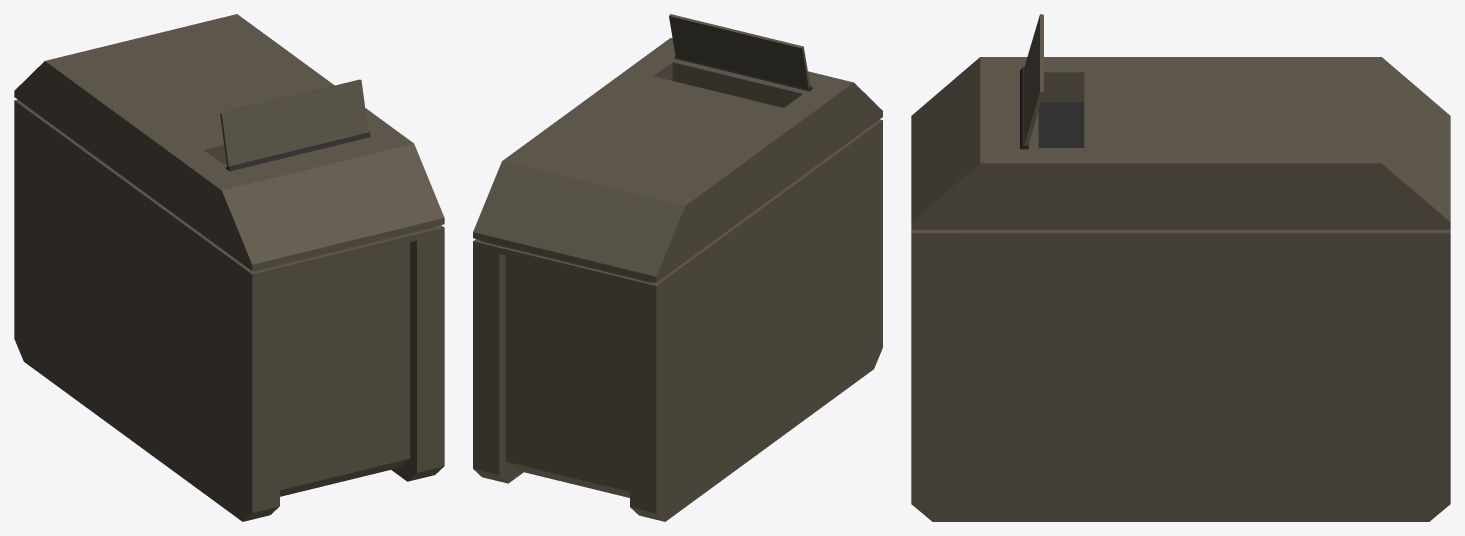
Rendered from LMG3_02_2.fbx.
3 renders of one model, left to right at view 1: azimuth 30°, elevation 25°; view 2: azimuth 150°, elevation 25°; view 3: azimuth 270°, elevation 25°, orthographic. The views are drawn at different scales.
Visible parts, largest first — view 1: LMG3_02_2; view 2: LMG3_02_2; view 3: LMG3_02_2.
Part boxes in pixels (x1=…): LMG3_02_2: x1=14, y1=14, x2=444, y2=521; LMG3_02_2: x1=473, y1=14, x2=882, y2=521; LMG3_02_2: x1=911, y1=14, x2=1450, y2=521.
Size of the model in its own units: 0.1003 by 0.1827 by 0.2147.
